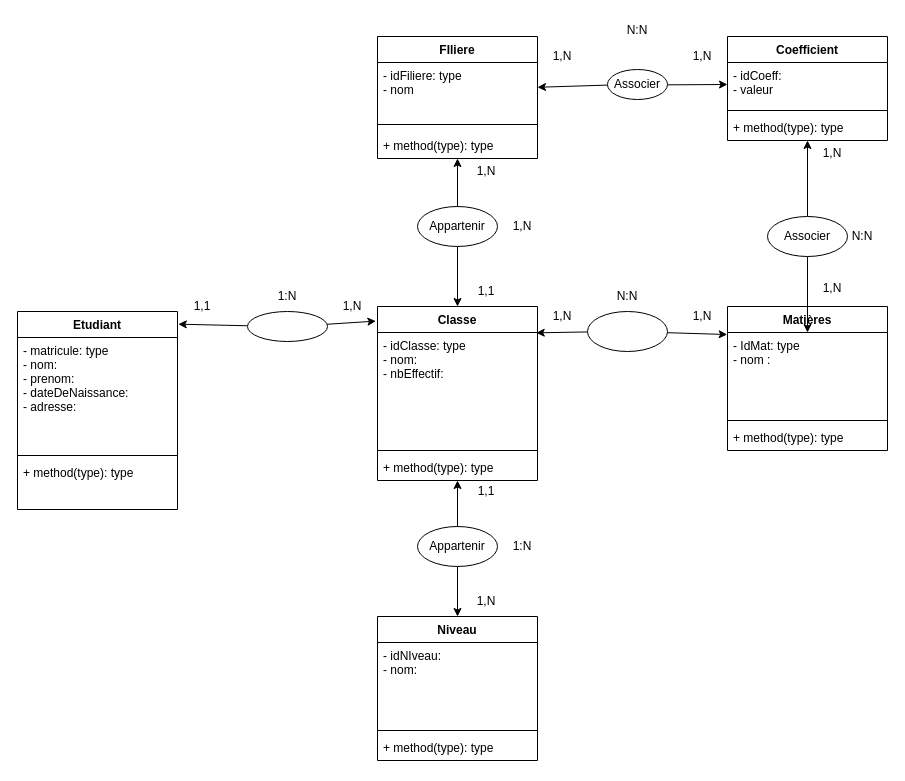
This 905x781 diagram has some shape labels left out. Each missing label, with the centre of its shape:
"Inscrir" belongs at point (287, 326).
"Suivre" belongs at point (627, 331).
